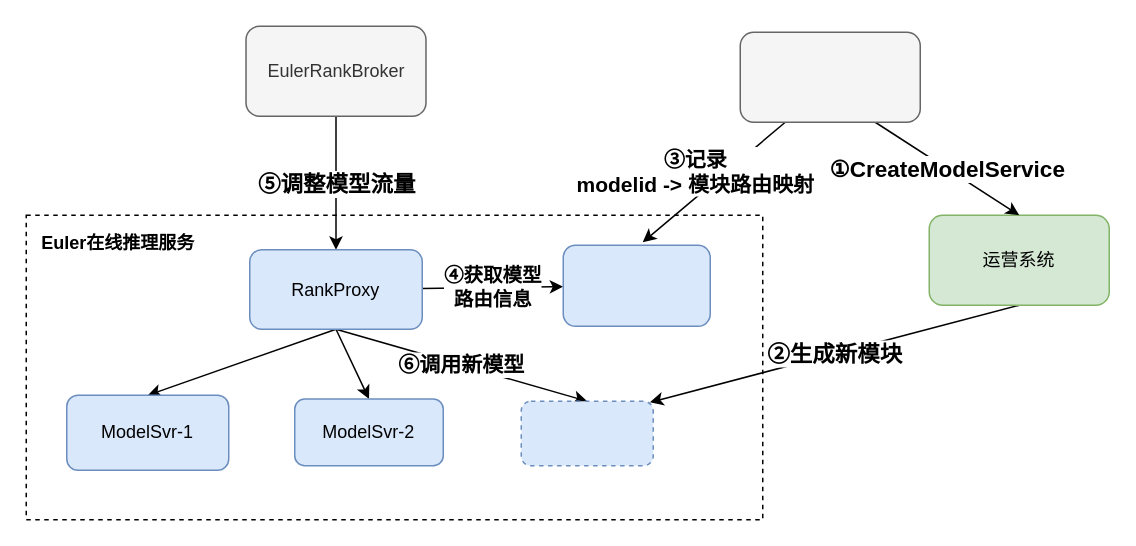
The diagram is 1136 pixels wide and 546 high, and some of its shapes have lost their labels. The centre of each missing label's shape, as x and y in pixels:
"Euler模型管理Web" belongs at [829,76].
"ModelSvr-3" belongs at [586,433].
"Model配置中心" belongs at [636,285].
